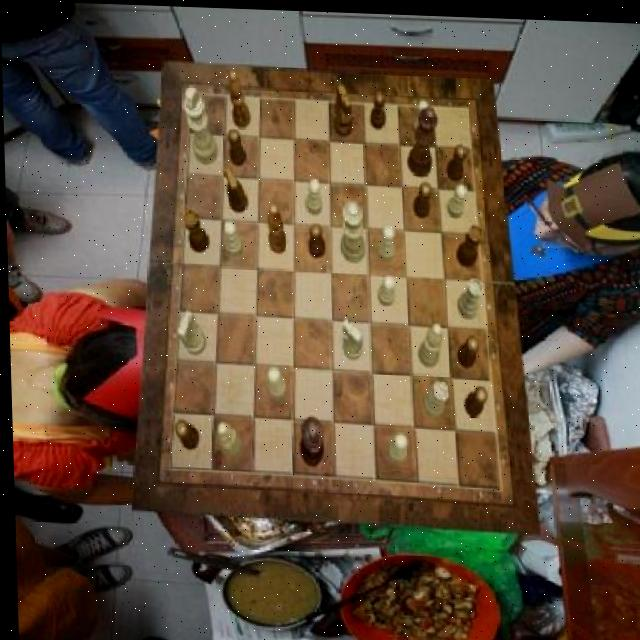bishop: (227, 68, 249, 126), (267, 201, 285, 253)
black-bishop: (296, 413, 322, 465)
black-king: (222, 165, 246, 212), (332, 82, 352, 135)
black-knight: (445, 139, 467, 177), (454, 331, 477, 366), (461, 382, 485, 414), (411, 178, 431, 214), (172, 419, 196, 448), (227, 127, 245, 165), (369, 87, 386, 126), (305, 221, 323, 256)
black-pawn: (405, 102, 438, 176)
black-queen: (454, 221, 483, 264), (181, 208, 207, 251)
black-rook: (415, 319, 440, 364), (213, 420, 238, 457)
white-bishop: (181, 85, 216, 164)
white-king: (175, 309, 203, 354), (339, 317, 361, 358)
white-knight: (444, 180, 466, 215), (375, 222, 394, 260), (411, 98, 429, 137), (223, 219, 241, 255), (384, 429, 404, 461), (303, 177, 320, 213), (266, 366, 284, 399), (375, 272, 393, 305)
white-pawn: (337, 199, 363, 261)
white-queen: (455, 275, 483, 317), (420, 377, 448, 415)
